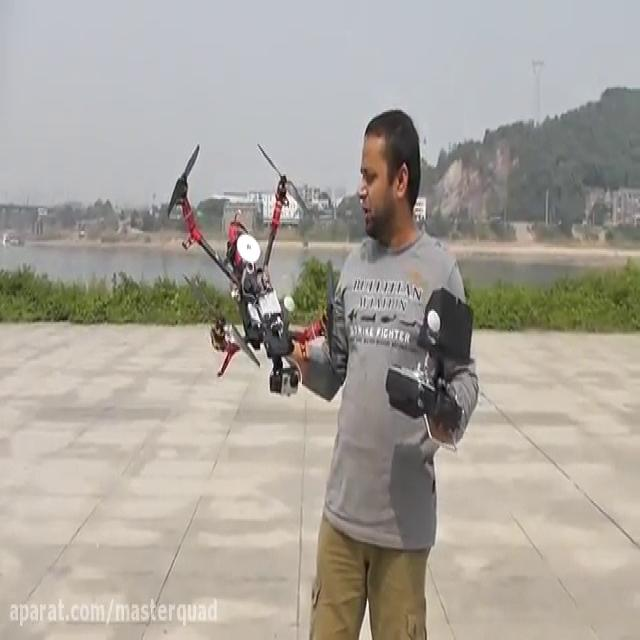drone: (164, 137, 338, 400)
